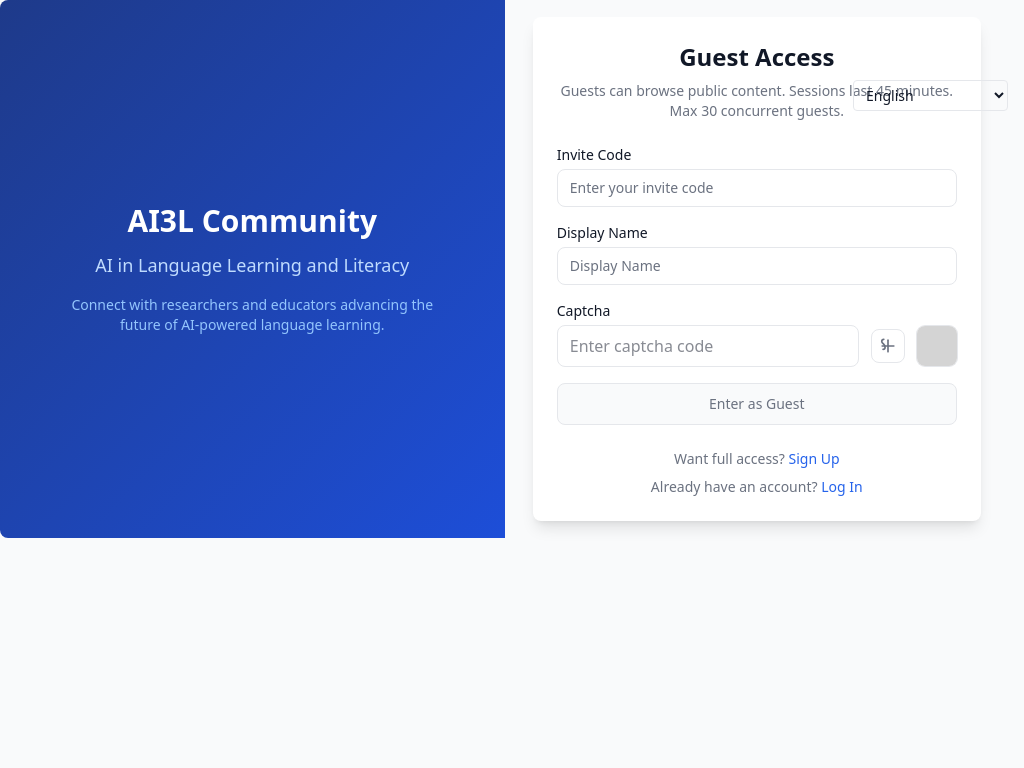
Test: GuestLoginView › error handling › clears error on new successful submit
Type "GUEST-CODE" into the field with id "input-invite-code" at (757, 188), box [557,169,957,207]
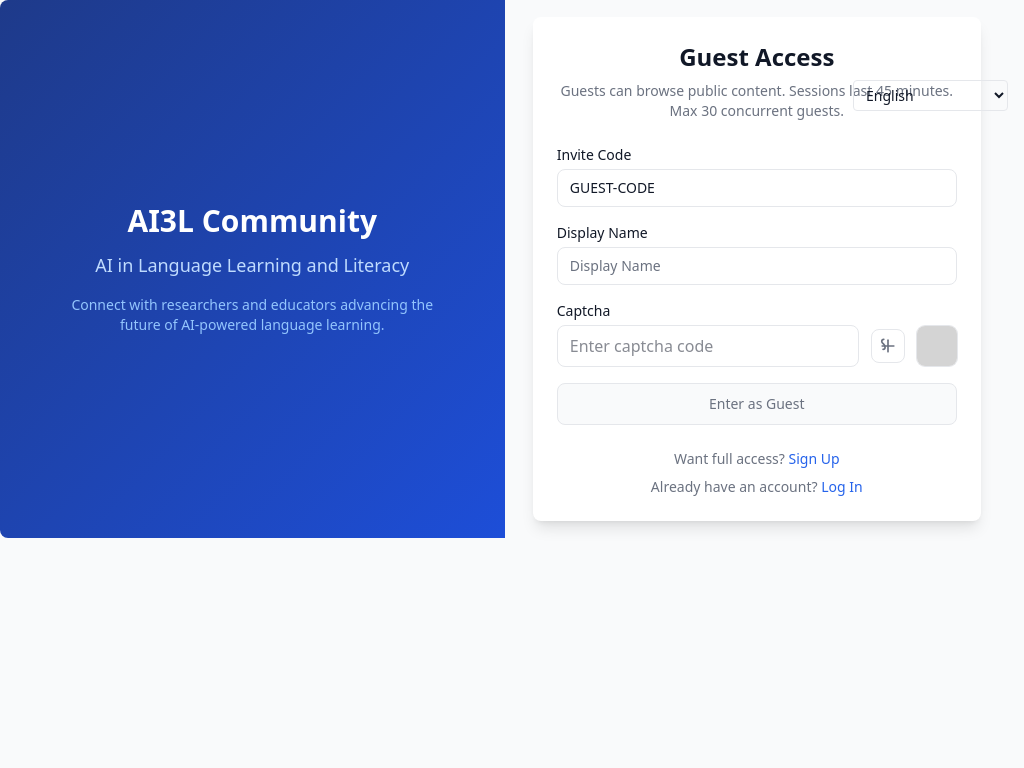
Type "Guest User" into the field with id "input-display-name" at (757, 266), box [557,247,957,285]
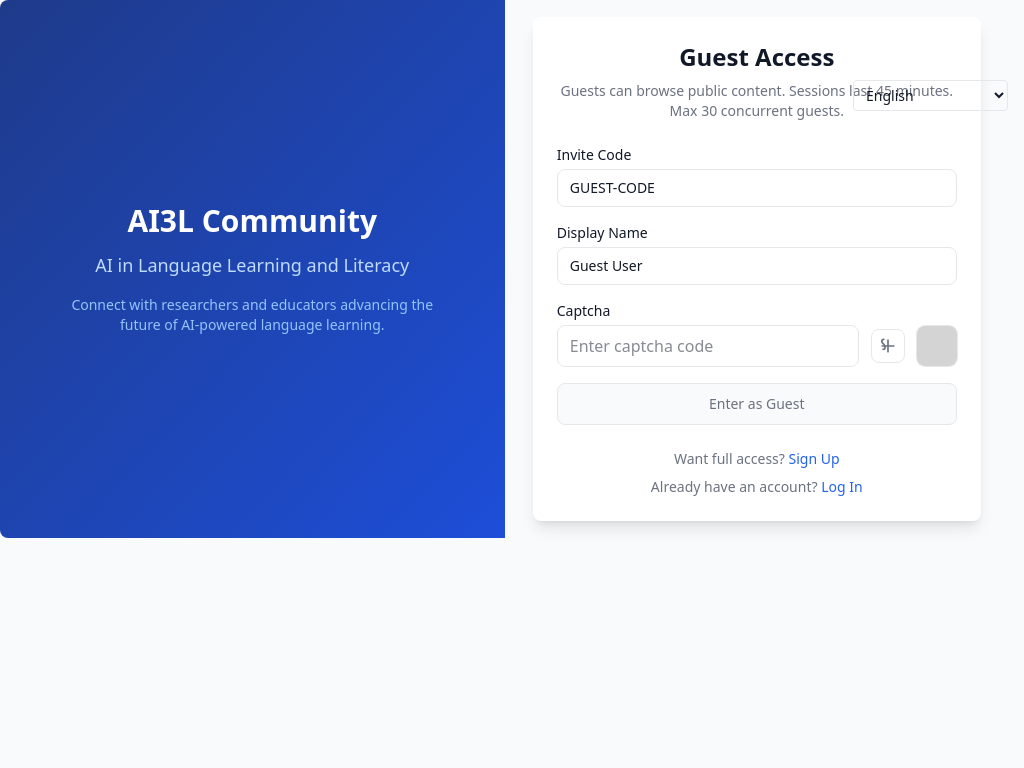
Type "1234" into the field labelled "Captcha" at (708, 346), box [557,325,859,367]
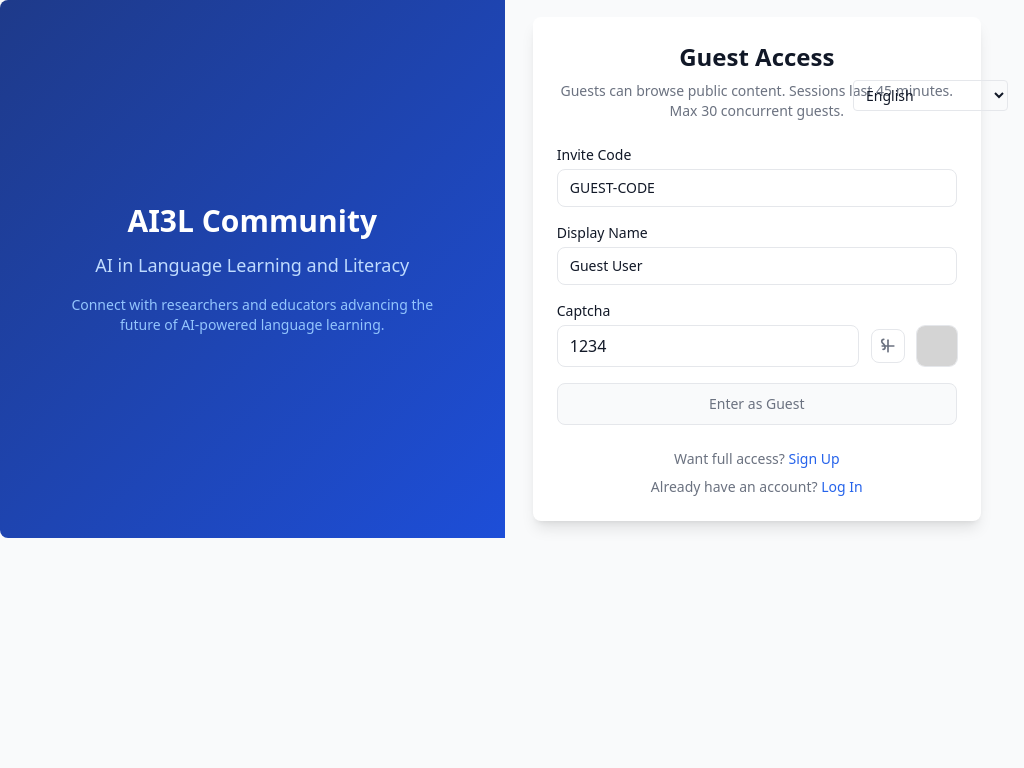
Submit the form, box [557,145,957,425]
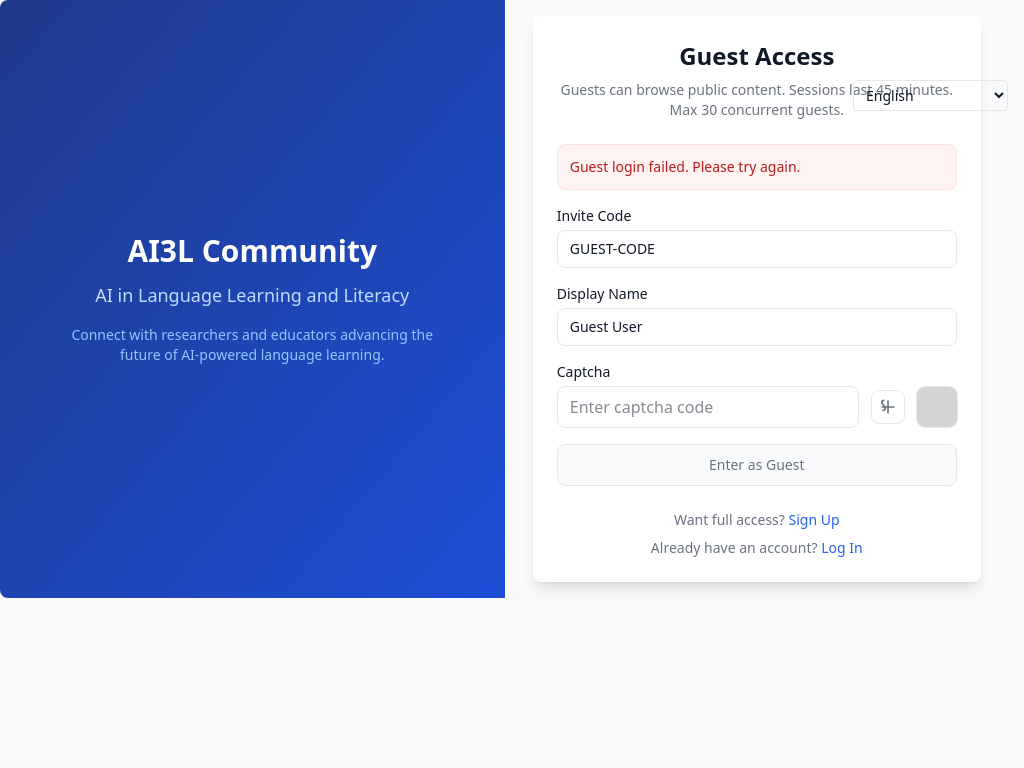
Check: the text "Guest login failed" is shown, box [570,157,800,176]
Submit the form, box [557,206,957,486]
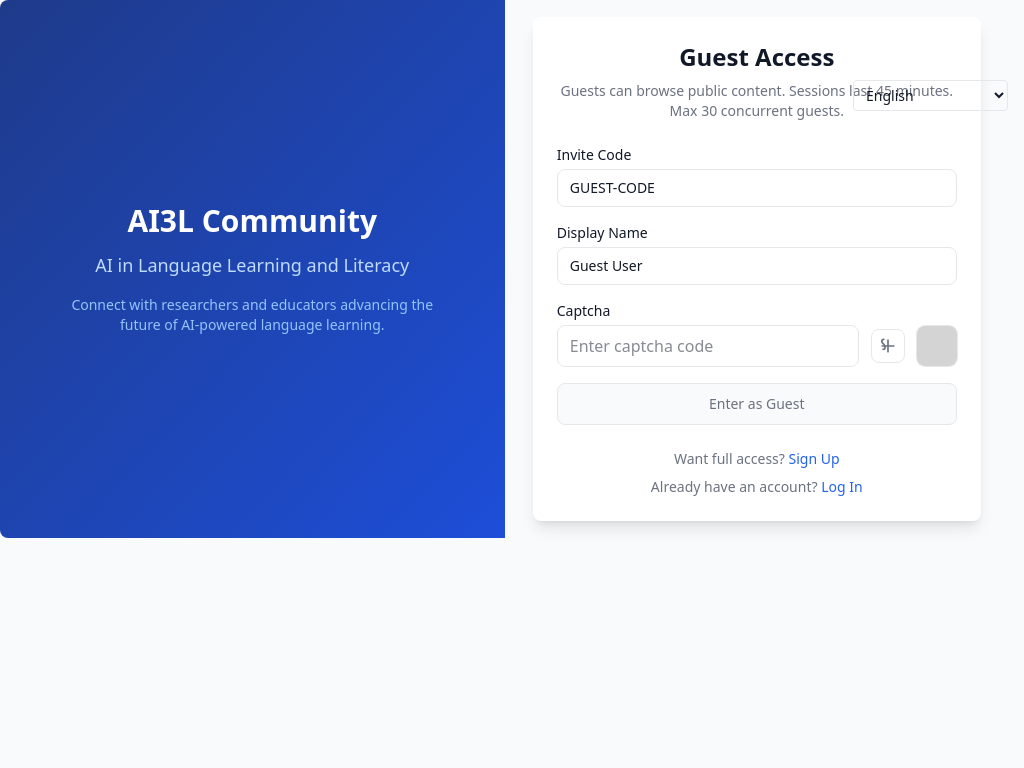
Check: the text "Guest login failed" is gone
